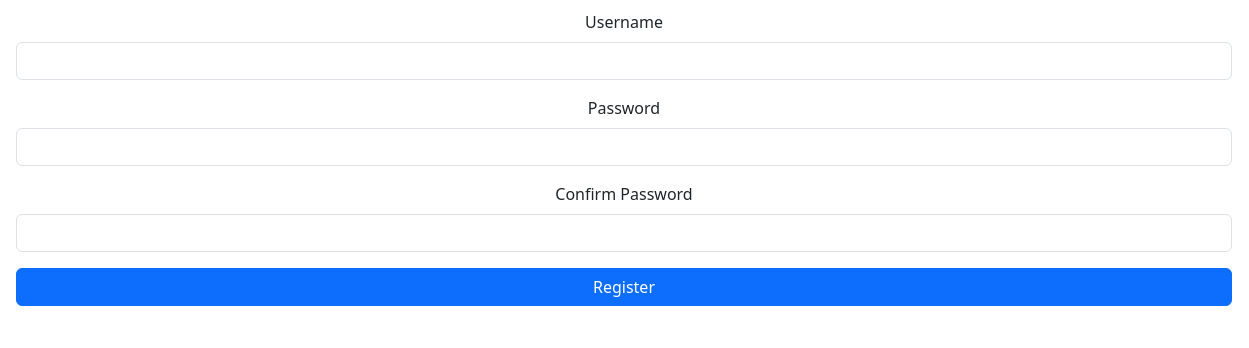
Test: RegisterForm › shows validation error for short password
Step 1. Type "validuser" into the field labelled "Username" → (624, 61), box left=16, top=42, right=1232, bottom=80
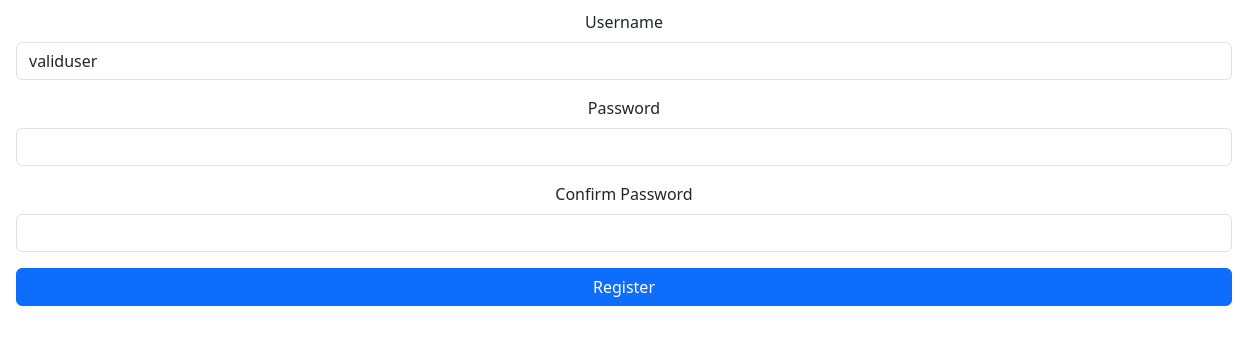
Step 2. Type "short" into the password field labelled "Password" → (624, 147), box left=16, top=128, right=1232, bottom=166
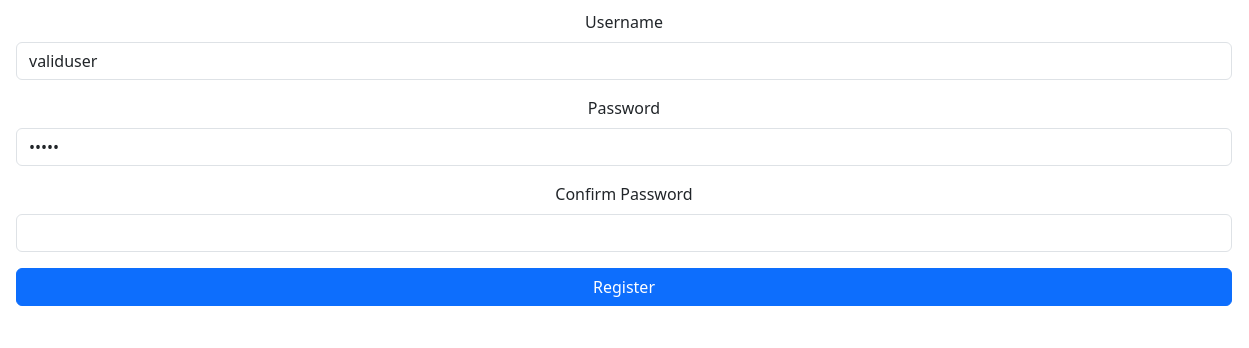
Step 3. Type "short" into the password field labelled "Confirm Password" → (624, 233), box left=16, top=214, right=1232, bottom=252
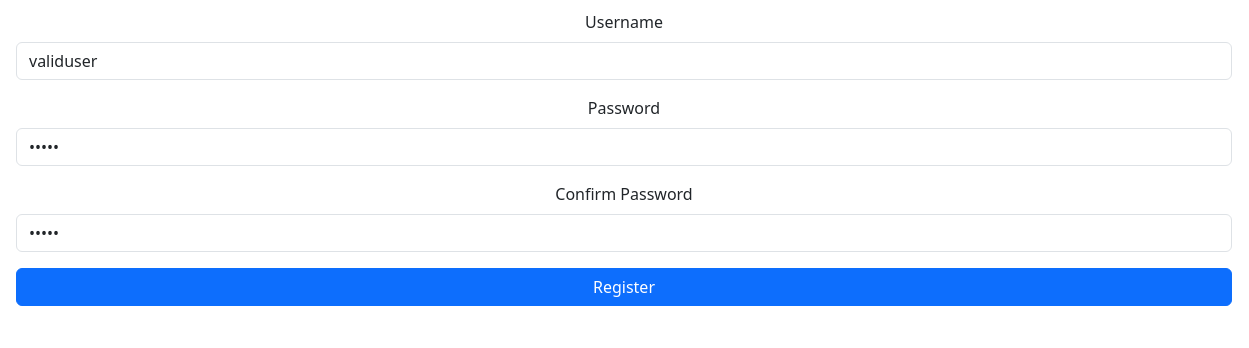
Step 4. Click the button "Register" → (624, 287), box left=16, top=268, right=1232, bottom=306
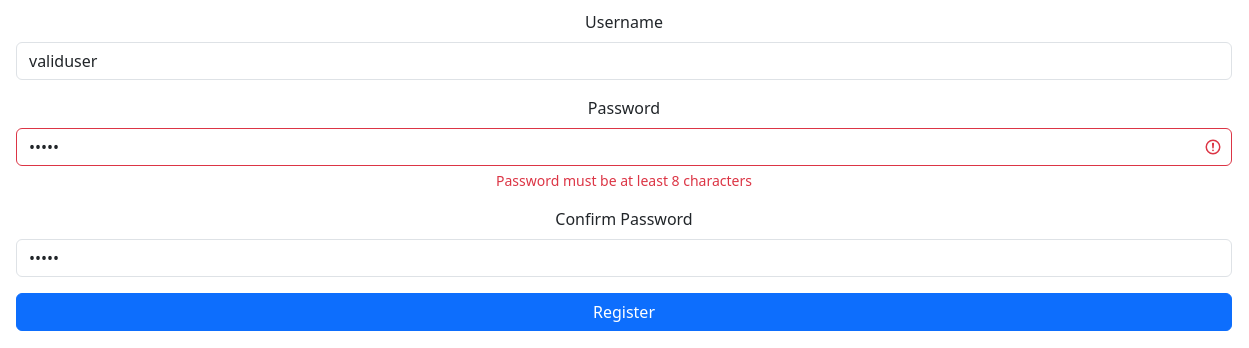
Check: the text "Password must be at least 8 characters" is shown, box left=496, top=171, right=752, bottom=190
